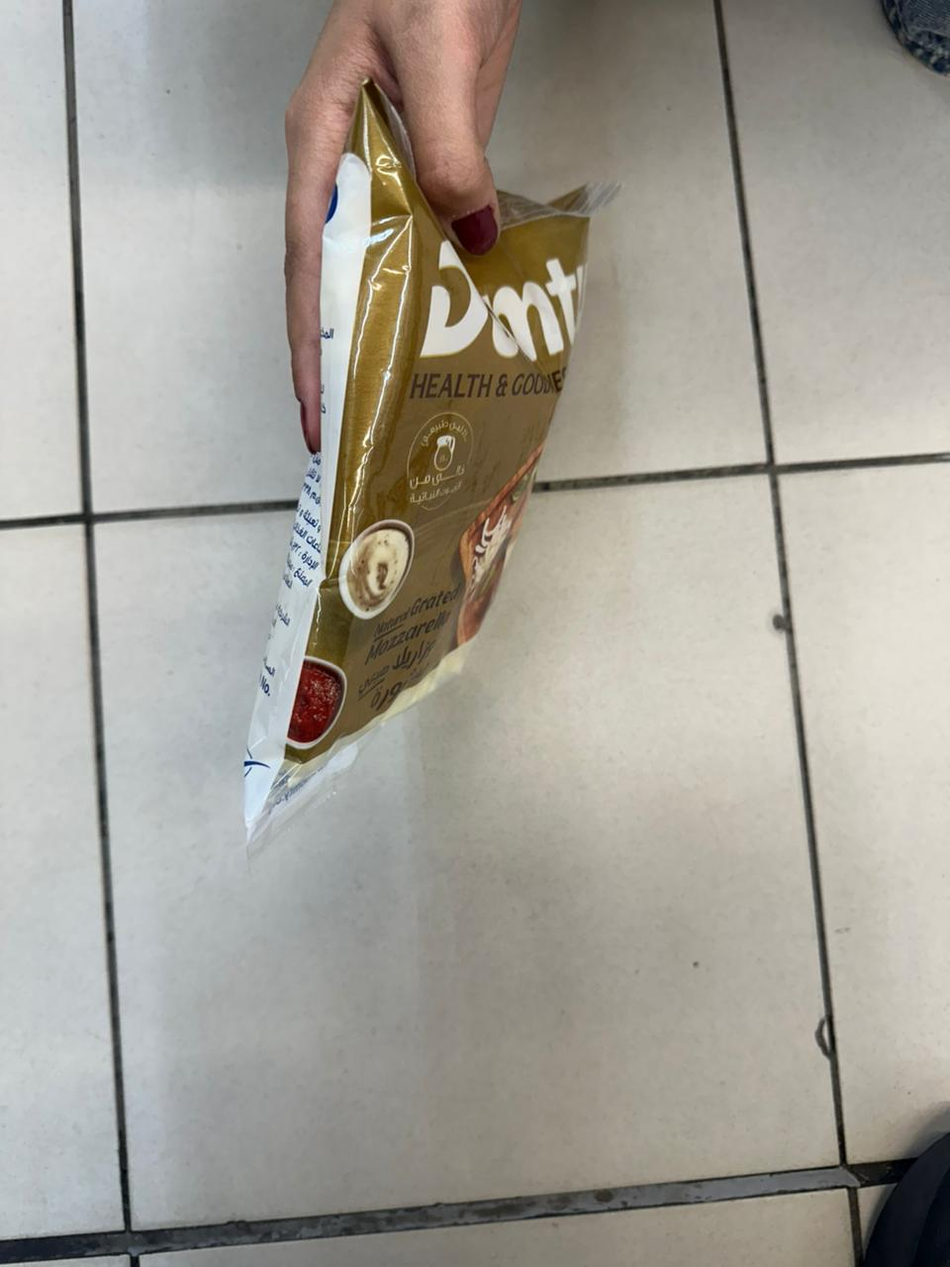mozzarella: (244, 85, 613, 840)
